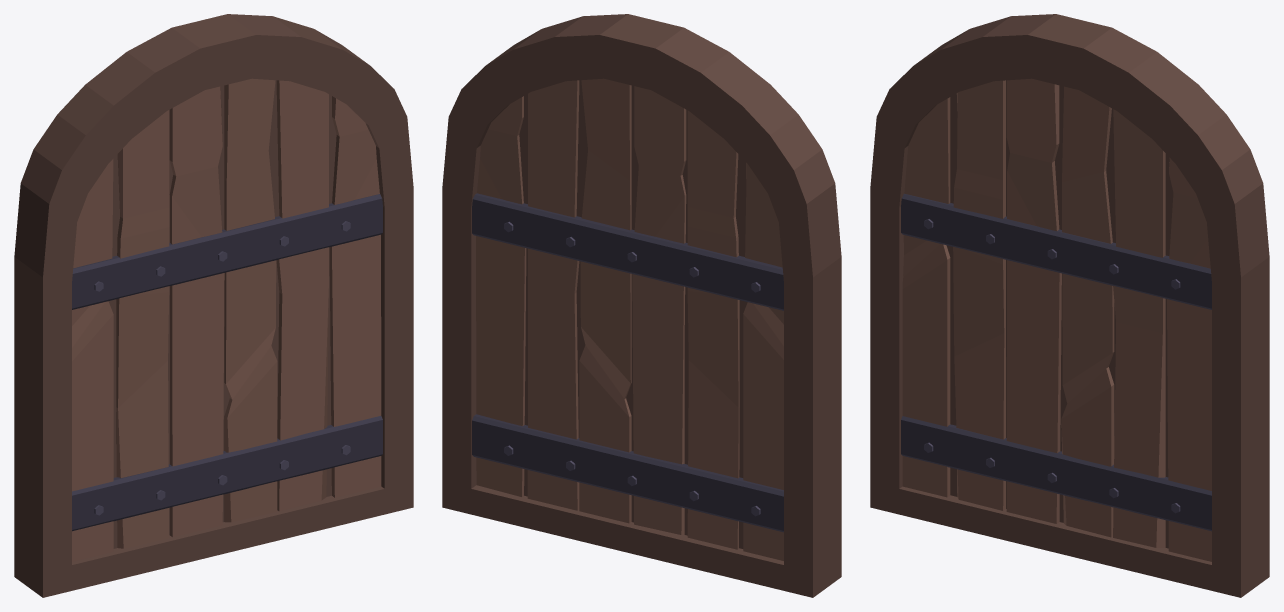
File: end_door.glb
The picture shows the model from 3 angles, left to right: view 1: azimuth 30°, elevation 25°; view 2: azimuth 150°, elevation 25°; view 3: azimuth 330°, elevation 25°; orthographic projection.
Parts seen in each view (by area): view 1: Arch_Door; view 2: Arch_Door; view 3: Arch_Door.
Part boxes in pixels (left/top/right/bottom): Arch_Door: left=14, top=14, right=413, bottom=597; Arch_Door: left=442, top=14, right=841, bottom=597; Arch_Door: left=870, top=14, right=1269, bottom=597.
Bounding box in the file's own units: 2.42 × 3.19 × 0.3296.
